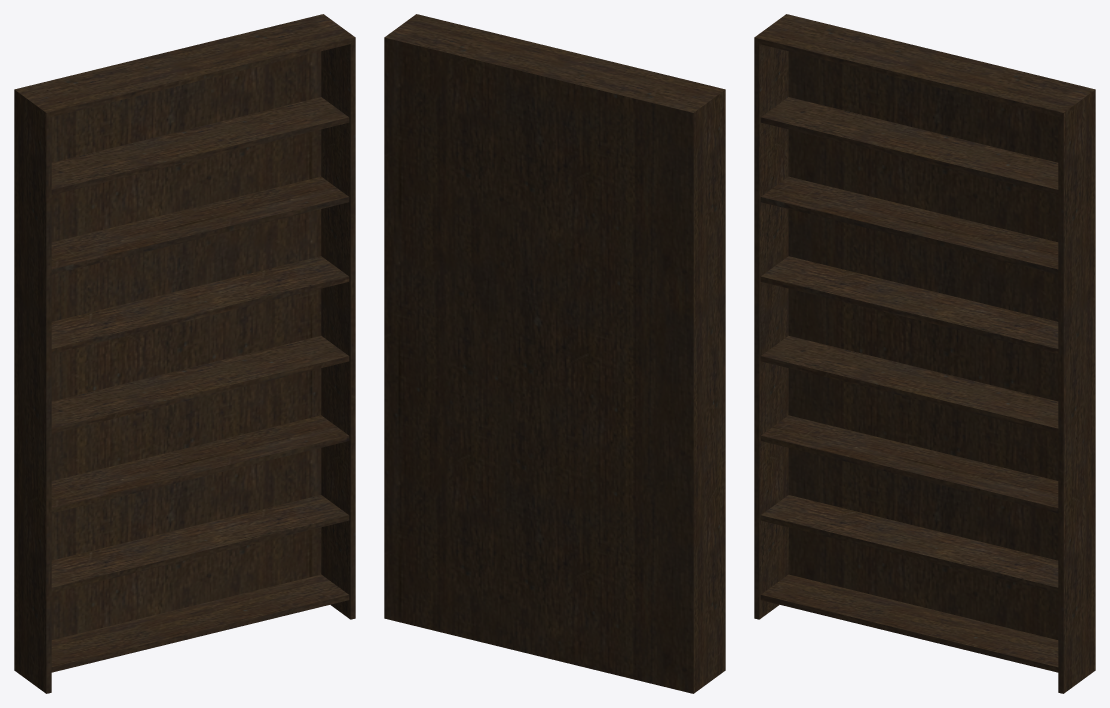
Rendered from shelf_mp_4_1.obj.
The picture shows the model from 3 angles, left to right: view 1: azimuth 30°, elevation 25°; view 2: azimuth 150°, elevation 25°; view 3: azimuth 330°, elevation 25°; orthographic projection.
Parts seen in each view (by area): view 1: shelf_mp_4_1; view 2: shelf_mp_4_1; view 3: shelf_mp_4_1.
Boxes of the visible parts, x1,y1,x2,y2 form: shelf_mp_4_1: (14, 14, 355, 693); shelf_mp_4_1: (384, 14, 725, 693); shelf_mp_4_1: (754, 14, 1095, 693).
Size of the model in its own units: 1.22 by 2.19 by 0.22.
